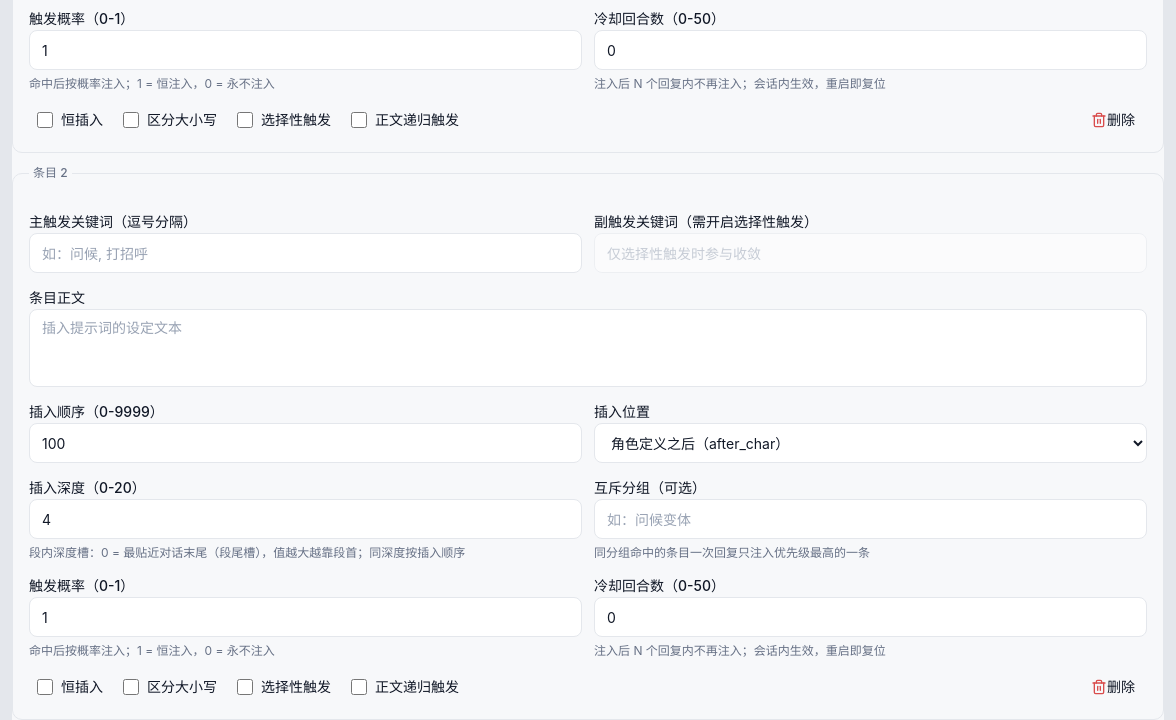
Scenario: CharacterBookEditor › 删除条目（两条 → 一条）
(page scrolled)
Click the button with aria-label "删除条目 2": (1113, 687) x1=1079 y1=671 x2=1147 y2=703
(page scrolled)
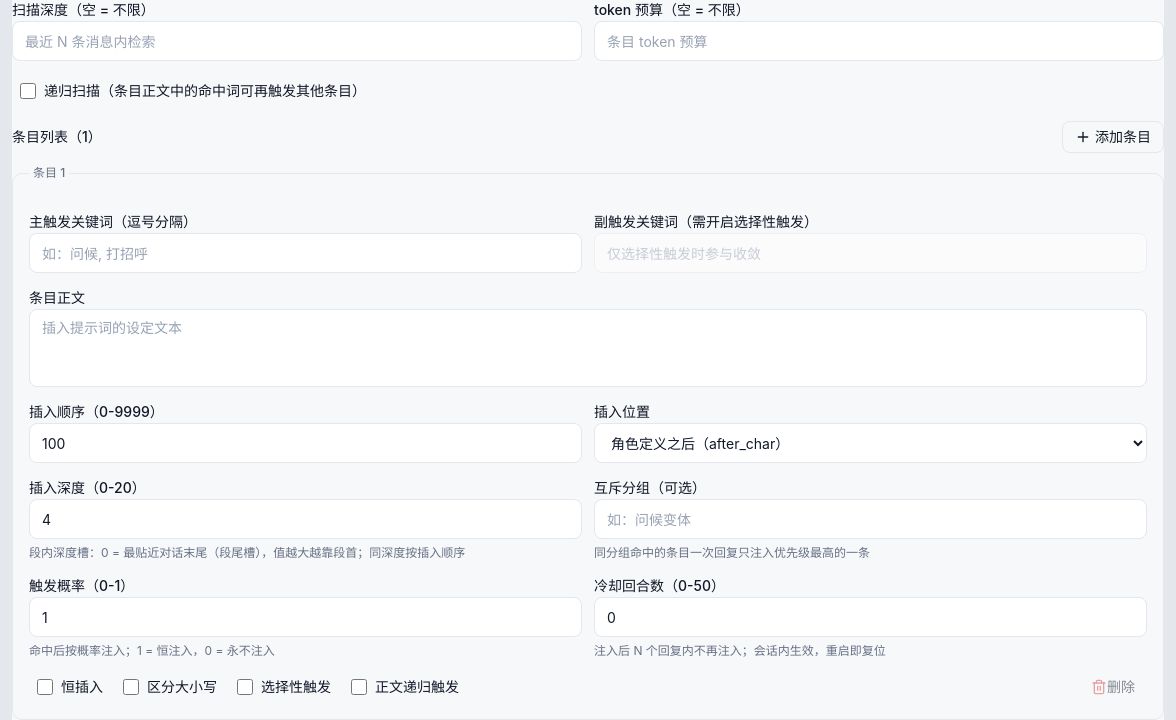
Expected: the text "条目列表（1）" is shown, x1=12 y1=127 x2=102 y2=147
